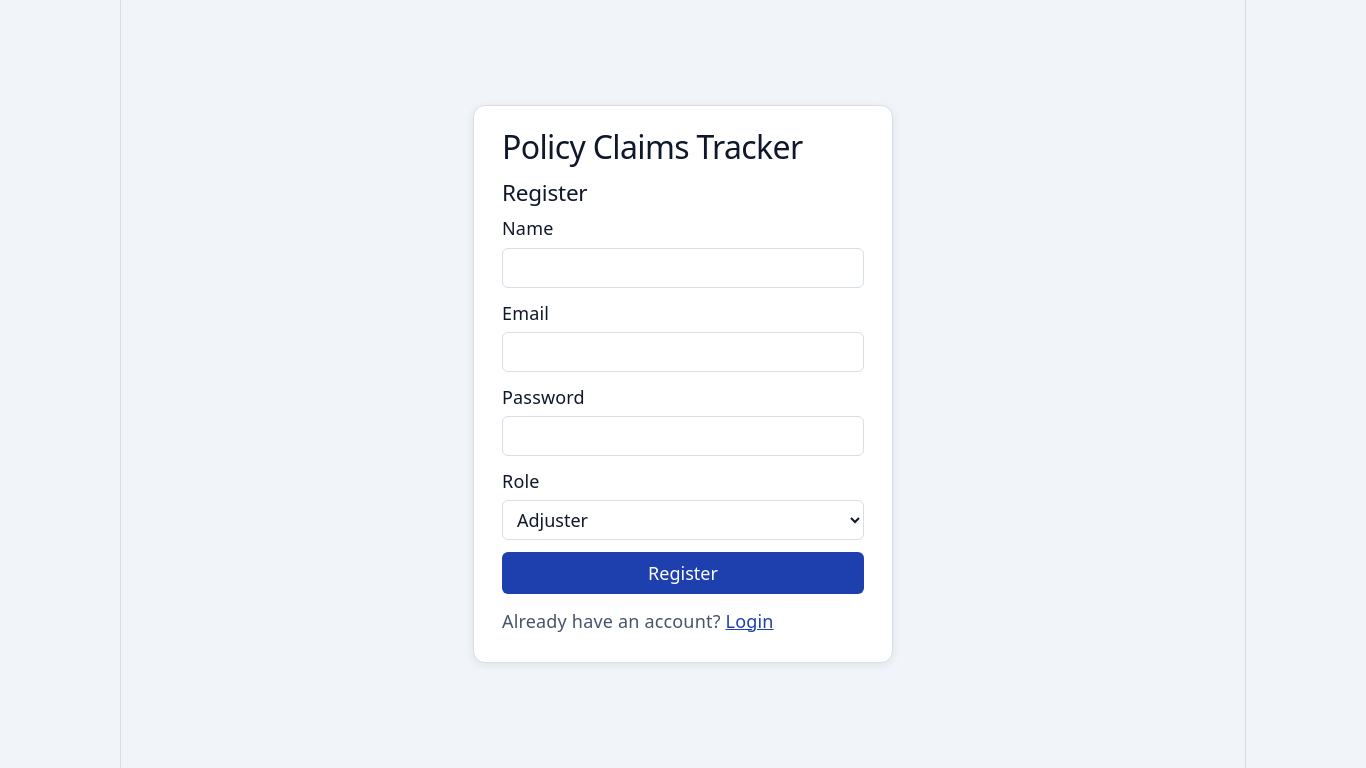
it: RegisterPage role selector › shows validation error for invalid email format
Type "John Doe" into the field labelled "Name" at (683, 268), box [502,248,864,288]
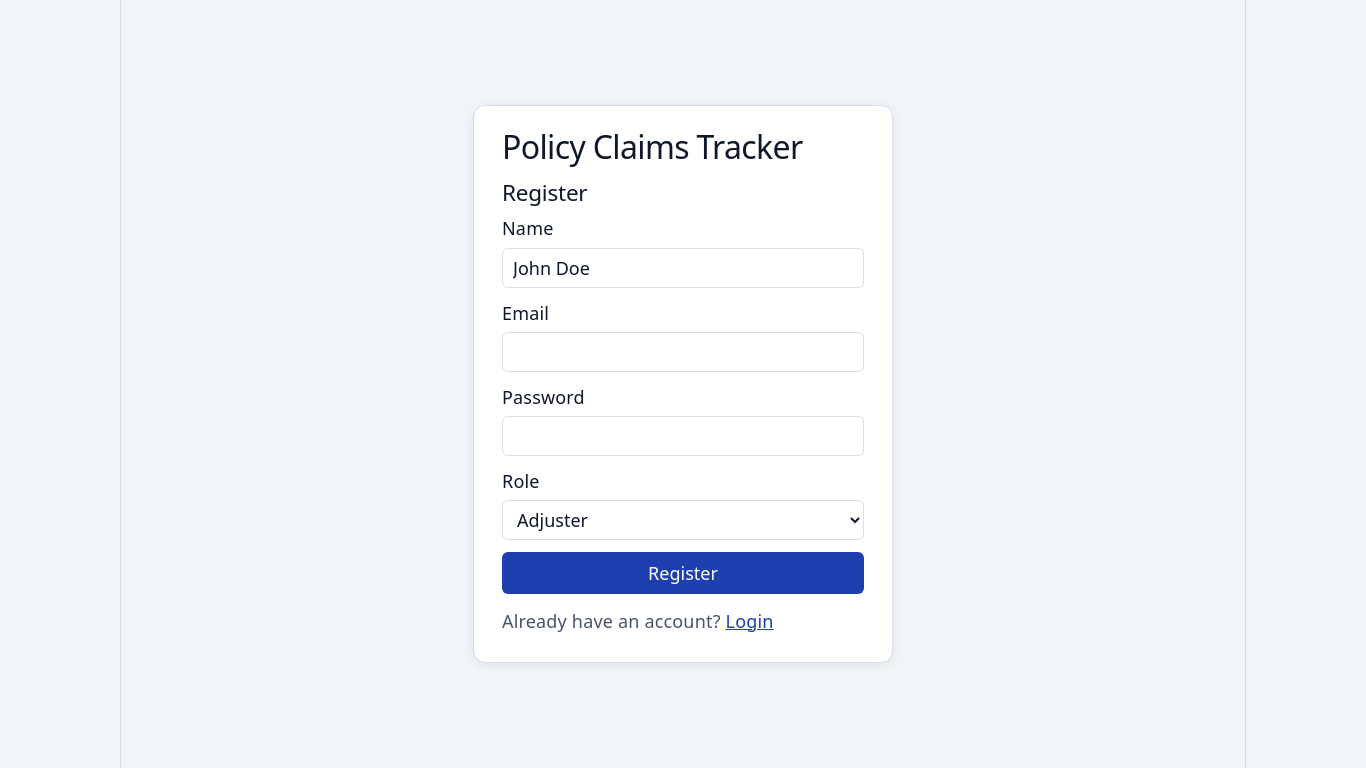
Type "john@domain" into the field labelled "Email" at (683, 352), box [502,332,864,372]
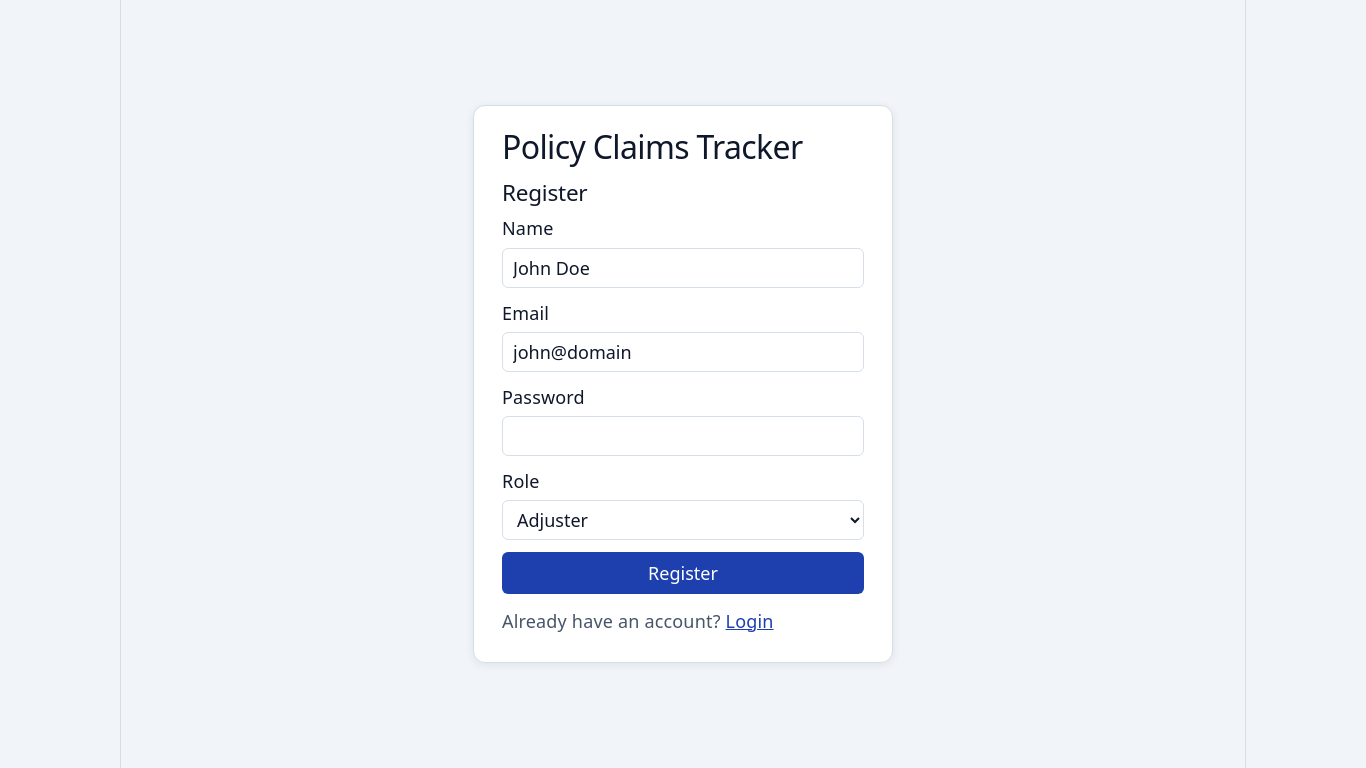
Type "Password123!" into the password field labelled "Password" at (683, 436), box [502,416,864,456]
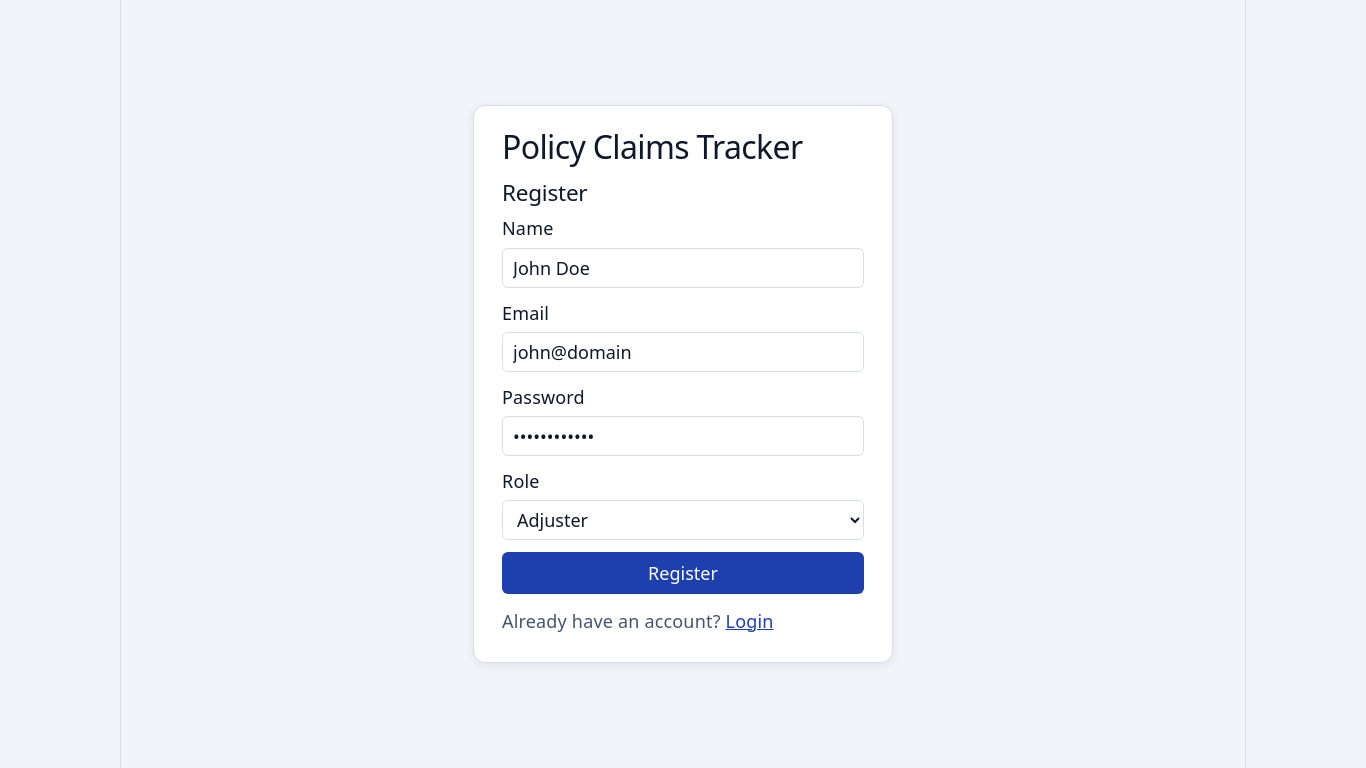
Submit the form from the button "Register", box [502,552,864,594]
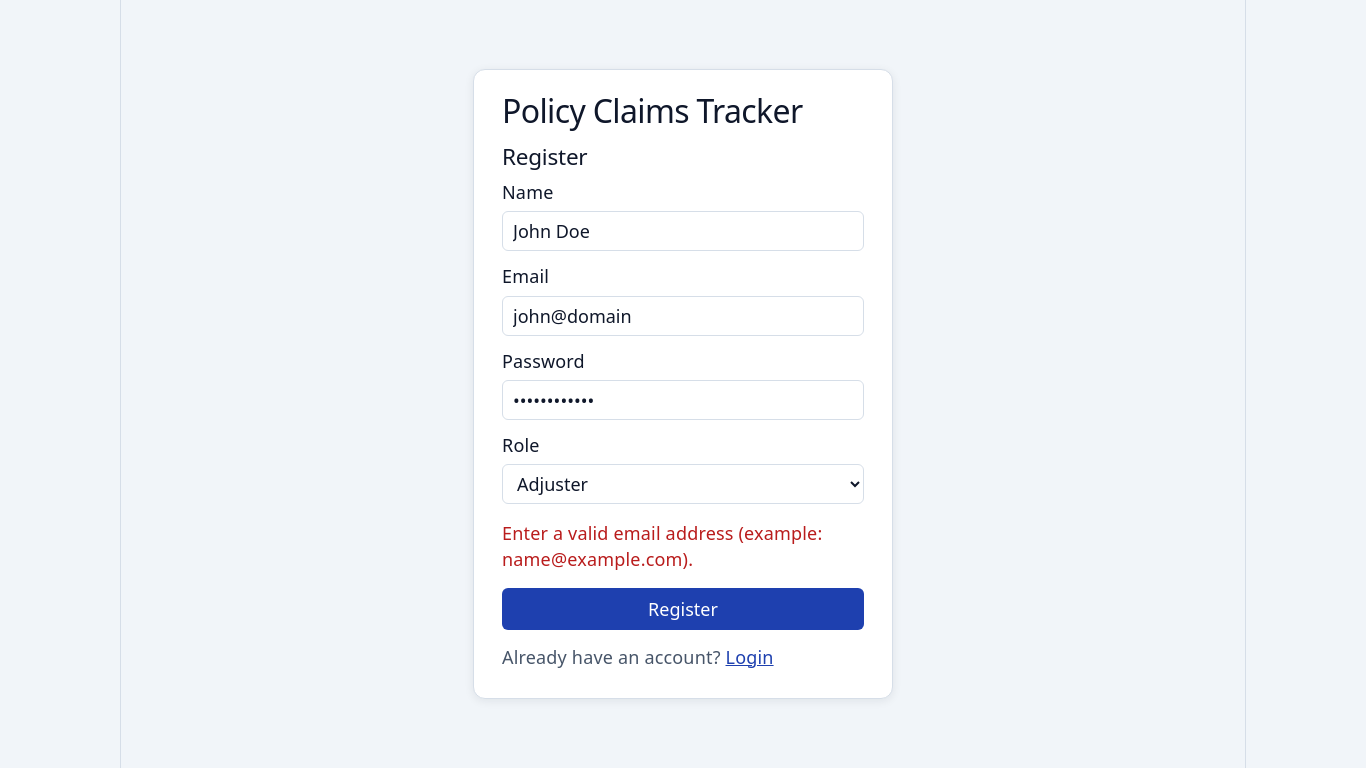
Now the text "Enter a valid email address (example: name@example.com)." is shown, box [502,520,864,572]
